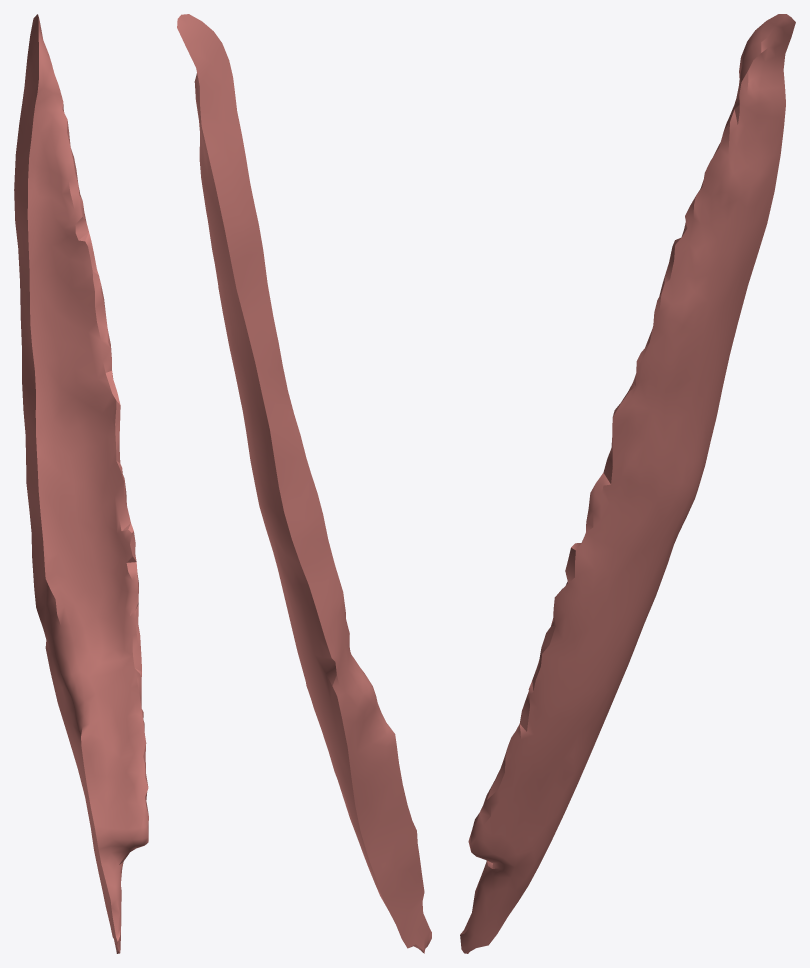
File: fma298177_mm1864.glb
3 renders of one model, left to right at view 1: azimuth 30°, elevation 25°; view 2: azimuth 150°, elevation 25°; view 3: azimuth 270°, elevation 25°, orthographic. The views are drawn at different scales.
Parts seen in each view (by area): view 1: FMA298177_MM1864; view 2: FMA298177_MM1864; view 3: FMA298177_MM1864.
Part boxes in pixels (x1,y1,x2,y2): FMA298177_MM1864: (14, 14, 148, 953); FMA298177_MM1864: (177, 14, 431, 953); FMA298177_MM1864: (460, 14, 795, 953).
Bounding box in the file's own units: 0.0122 × 0.1241 × 0.0388.
